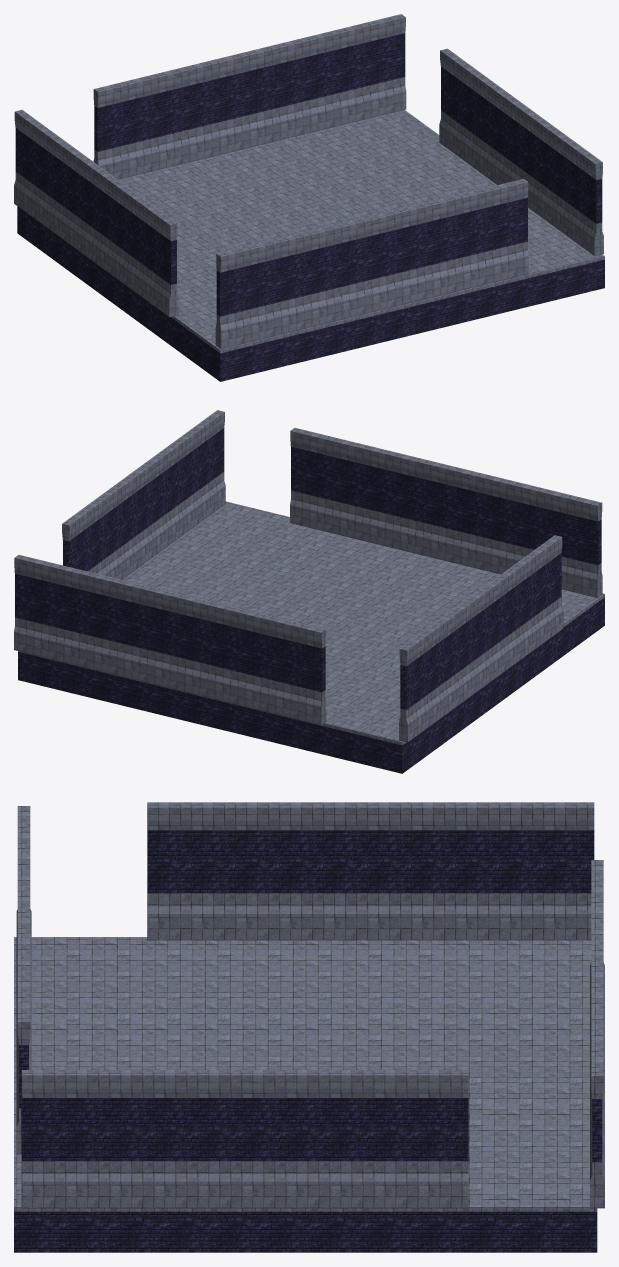
The model's file is fourdoor-room.glb.
3 views of the same model, one above another, from view 1: azimuth 30°, elevation 25°; view 2: azimuth 150°, elevation 25°; view 3: azimuth 270°, elevation 25° (orthographic). The views are drawn at different scales.
Parts seen in each view (by area): view 1: wall (×4), floor; view 2: wall (×4), floor; view 3: wall (×4), floor.
Boxes of the visible parts, x1=… form: wall (×4): x1=14, y1=14, x2=603, y2=348; floor: x1=17, y1=110, x2=604, y2=381; wall (×4): x1=14, y1=410, x2=602, y2=742; floor: x1=18, y1=501, x2=604, y2=773; wall (×4): x1=16, y1=802, x2=604, y2=1208; floor: x1=14, y1=937, x2=597, y2=1252.
Size of the model in its own units: 12.9 by 3.9 by 11.75.
Materials: 10 (10 with a texture image).
